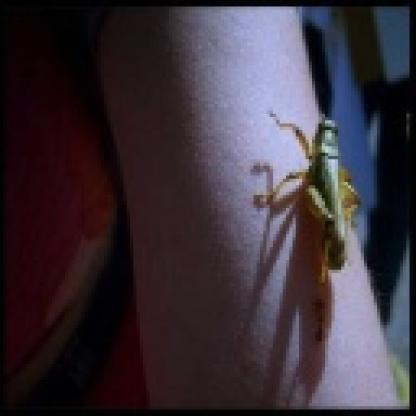grasshopper: (256, 90, 370, 350)
